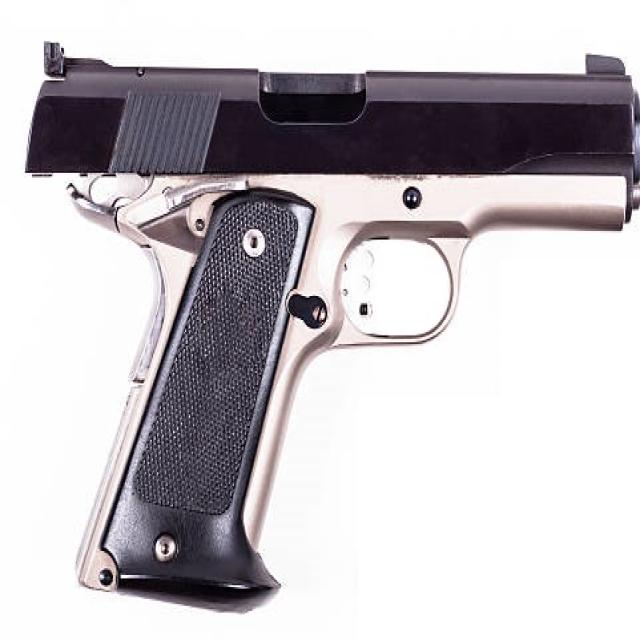pistol: (16, 31, 640, 616)
